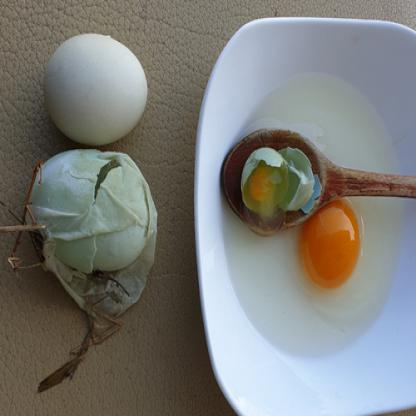egg: (41, 26, 155, 146)
